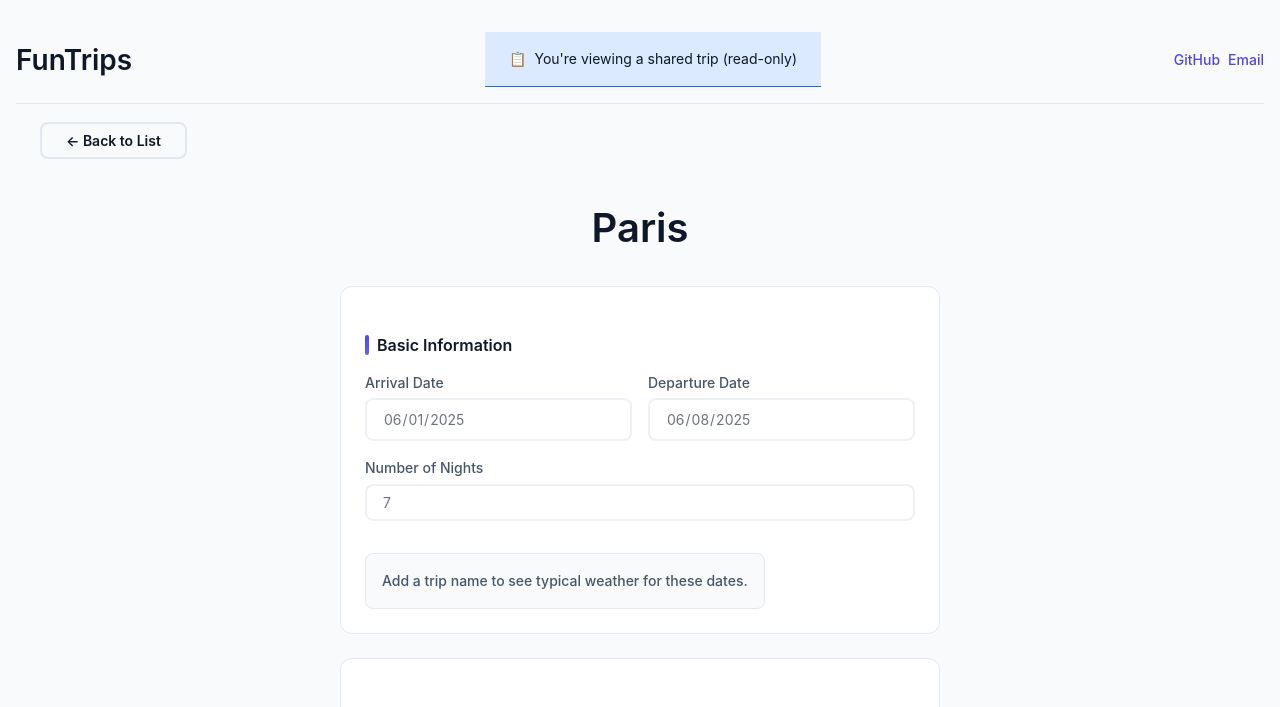
Test: shared trips › back navigation works from trip detail to trip list
Click the link "← Back to List": (114, 141) [40,122,187,159]
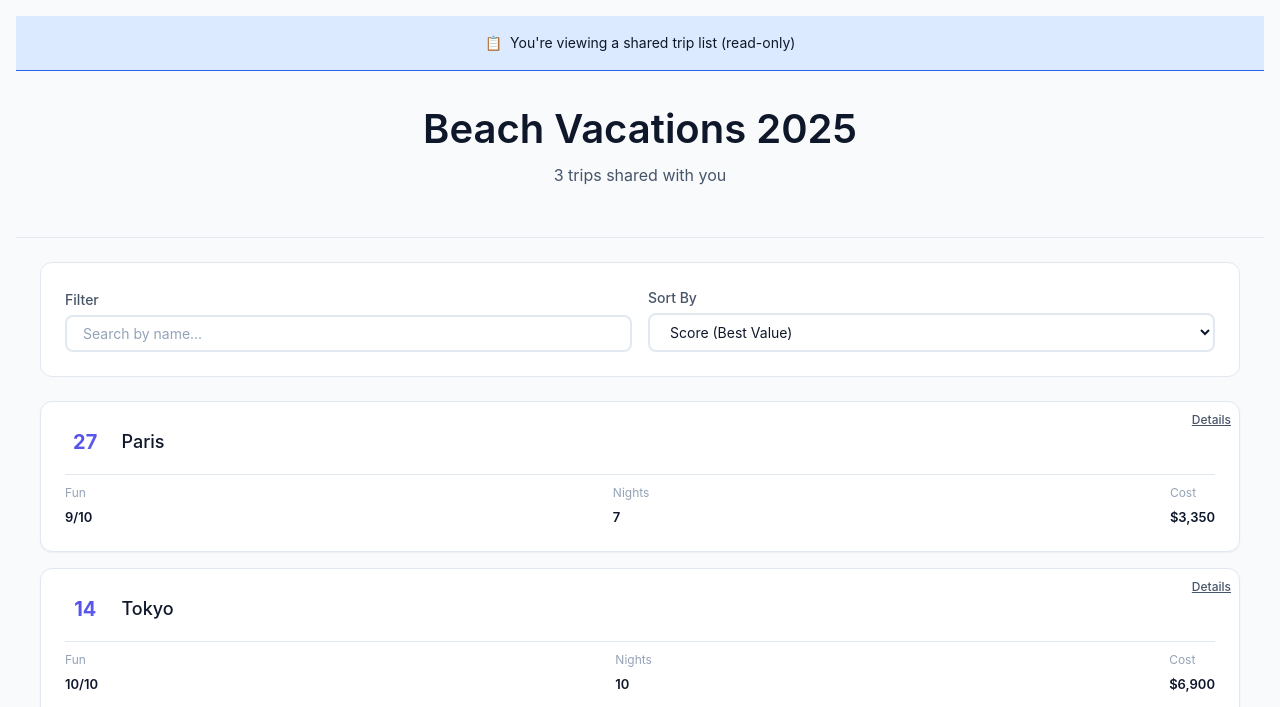
Expected: the link "Paris" is shown, [122,431,164,452]
Expected: the heading "Beach Vacations 2025" is shown, [423,104,857,153]
Expected: the link "Tokyo" is shown, [122,598,174,619]
